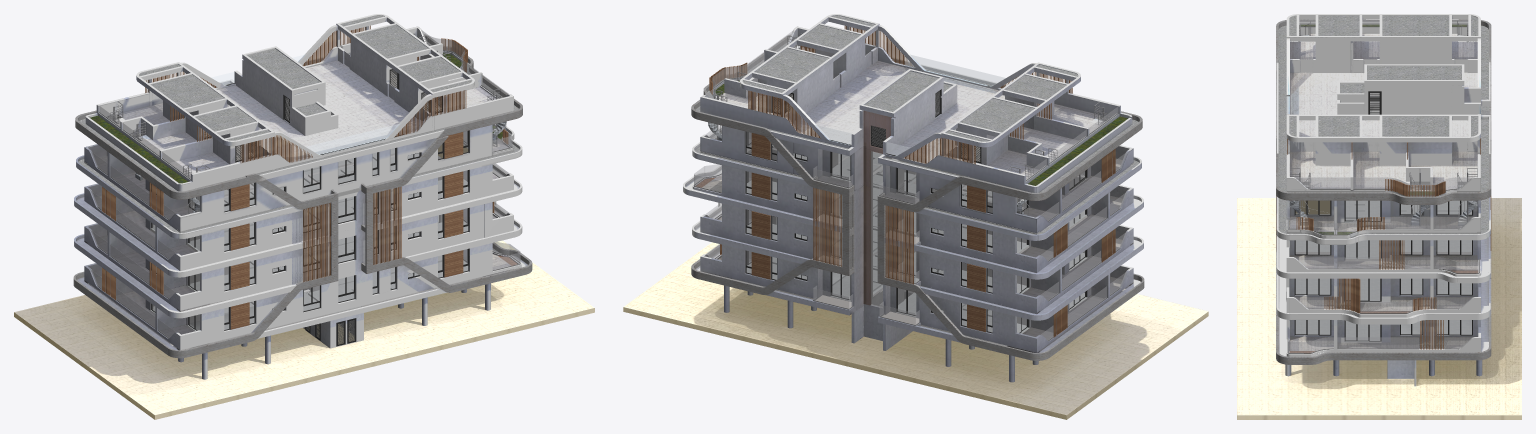
File: type-d.glb
3 renders of one model, left to right at view 1: azimuth 30°, elevation 25°; view 2: azimuth 150°, elevation 25°; view 3: azimuth 270°, elevation 25°, orthographic.
Visible parts, largest first — view 1: Groun_ Floor, D_RooF, SW - 021, pBeton Strip L, Roof_Floor, FL_02- Wall, FL_04 Wall, FL_01- Wall, FL_03- Wall001, Object_5874, RooF_OutLine, RAILING - 017 (+16 smaller); view 2: Groun_ Floor, D_RooF, SW - 021, pBeton Strip L, FL_02- Wall, Roof_Floor, RooF_OutLine, FL_04 Wall, Object_5874, FL_03- Wall001, RAILING - 017, FL_01- Wall (+17 smaller); view 3: Groun_ Floor, D_RooF, Object_5874, Roof_Floor, RAILING - 017, FL_Balkon, Obj_SLA - 013_1, Obj_W49, pBeton Strip L, SW - 021, FL_02- Wall, FL_04 Wall (+18 smaller).
Boxes of the visible parts, x1,y1,x2,y2 form: Groun_ Floor: (14,240,594,419); D_RooF: (114,14,482,164); SW - 021: (102,25,508,329); pBeton Strip L: (73,34,532,358); Roof_Floor: (117,56,495,177); FL_02- Wall: (84,202,513,310); FL_04 Wall: (84,100,513,231); FL_01- Wall: (84,243,521,350); FL_03- Wall001: (84,156,513,270); Object_5874: (78,15,519,232); RooF_OutLine: (85,26,513,191); RAILING - 017: (90,30,520,338); Groun_ Floor: (623,242,1208,419); D_RooF: (724,14,1103,171); SW - 021: (709,25,1115,337); pBeton Strip L: (691,34,1144,360); FL_02- Wall: (700,203,1133,314); Roof_Floor: (719,48,1100,178); RooF_OutLine: (700,26,1132,192); FL_04 Wall: (700,119,1133,233); Object_5874: (695,15,1139,234); FL_03- Wall001: (692,146,1133,272); RAILING - 017: (693,30,1127,340); FL_01- Wall: (700,244,1133,352); Groun_ Floor: (1237,198,1521,419); D_RooF: (1286,14,1480,190); Object_5874: (1278,15,1488,234); Roof_Floor: (1290,33,1477,190); RAILING - 017: (1287,20,1490,353); FL_Balkon: (1289,216,1478,350); Obj_SLA - 013_1: (1295,200,1471,341); Obj_W49: (1296,201,1471,340); pBeton Strip L: (1276,19,1491,364); SW - 021: (1276,138,1491,349); FL_02- Wall: (1286,278,1480,317); FL_04 Wall: (1286,186,1480,238).
Bounding box in the file's own units: 39.02 × 20.02 × 21.63.
Materials: 42 (29 with a texture image).
